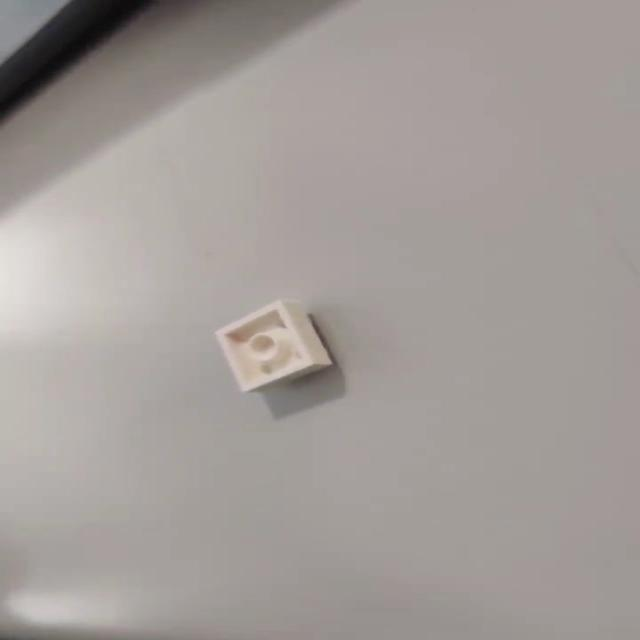C2x2x0: (216, 298, 339, 394)
